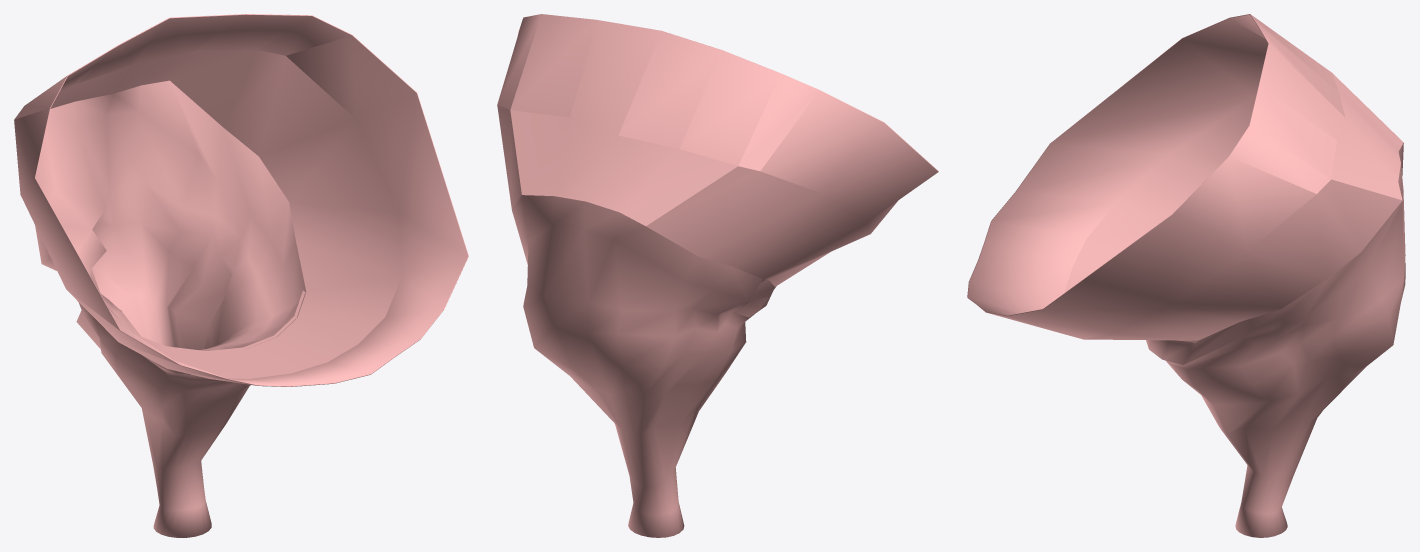
Rendered from meshmedioamplio 1.fbx.
The picture shows the model from 3 angles, left to right: view 1: azimuth 30°, elevation 25°; view 2: azimuth 150°, elevation 25°; view 3: azimuth 270°, elevation 25°; orthographic projection. The views are drawn at different scales.
Visible parts, largest first — view 1: caso_1:vagina1_Mesh.001; view 2: caso_1:vagina1_Mesh.001; view 3: caso_1:vagina1_Mesh.001.
Boxes of the visible parts, x1,y1,x2,y2 form: caso_1:vagina1_Mesh.001: (14, 14, 468, 537); caso_1:vagina1_Mesh.001: (497, 14, 938, 537); caso_1:vagina1_Mesh.001: (967, 14, 1405, 537).
Size of the model in its own units: 653 by 842 by 698.
